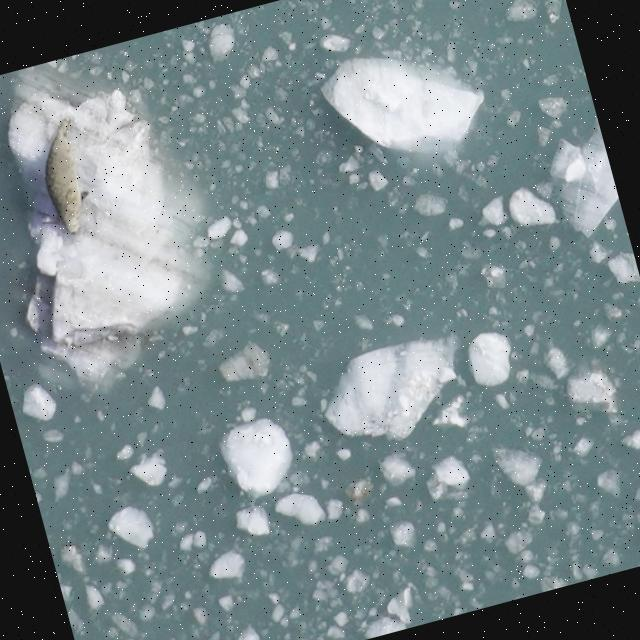seal: (26, 111, 106, 243)
